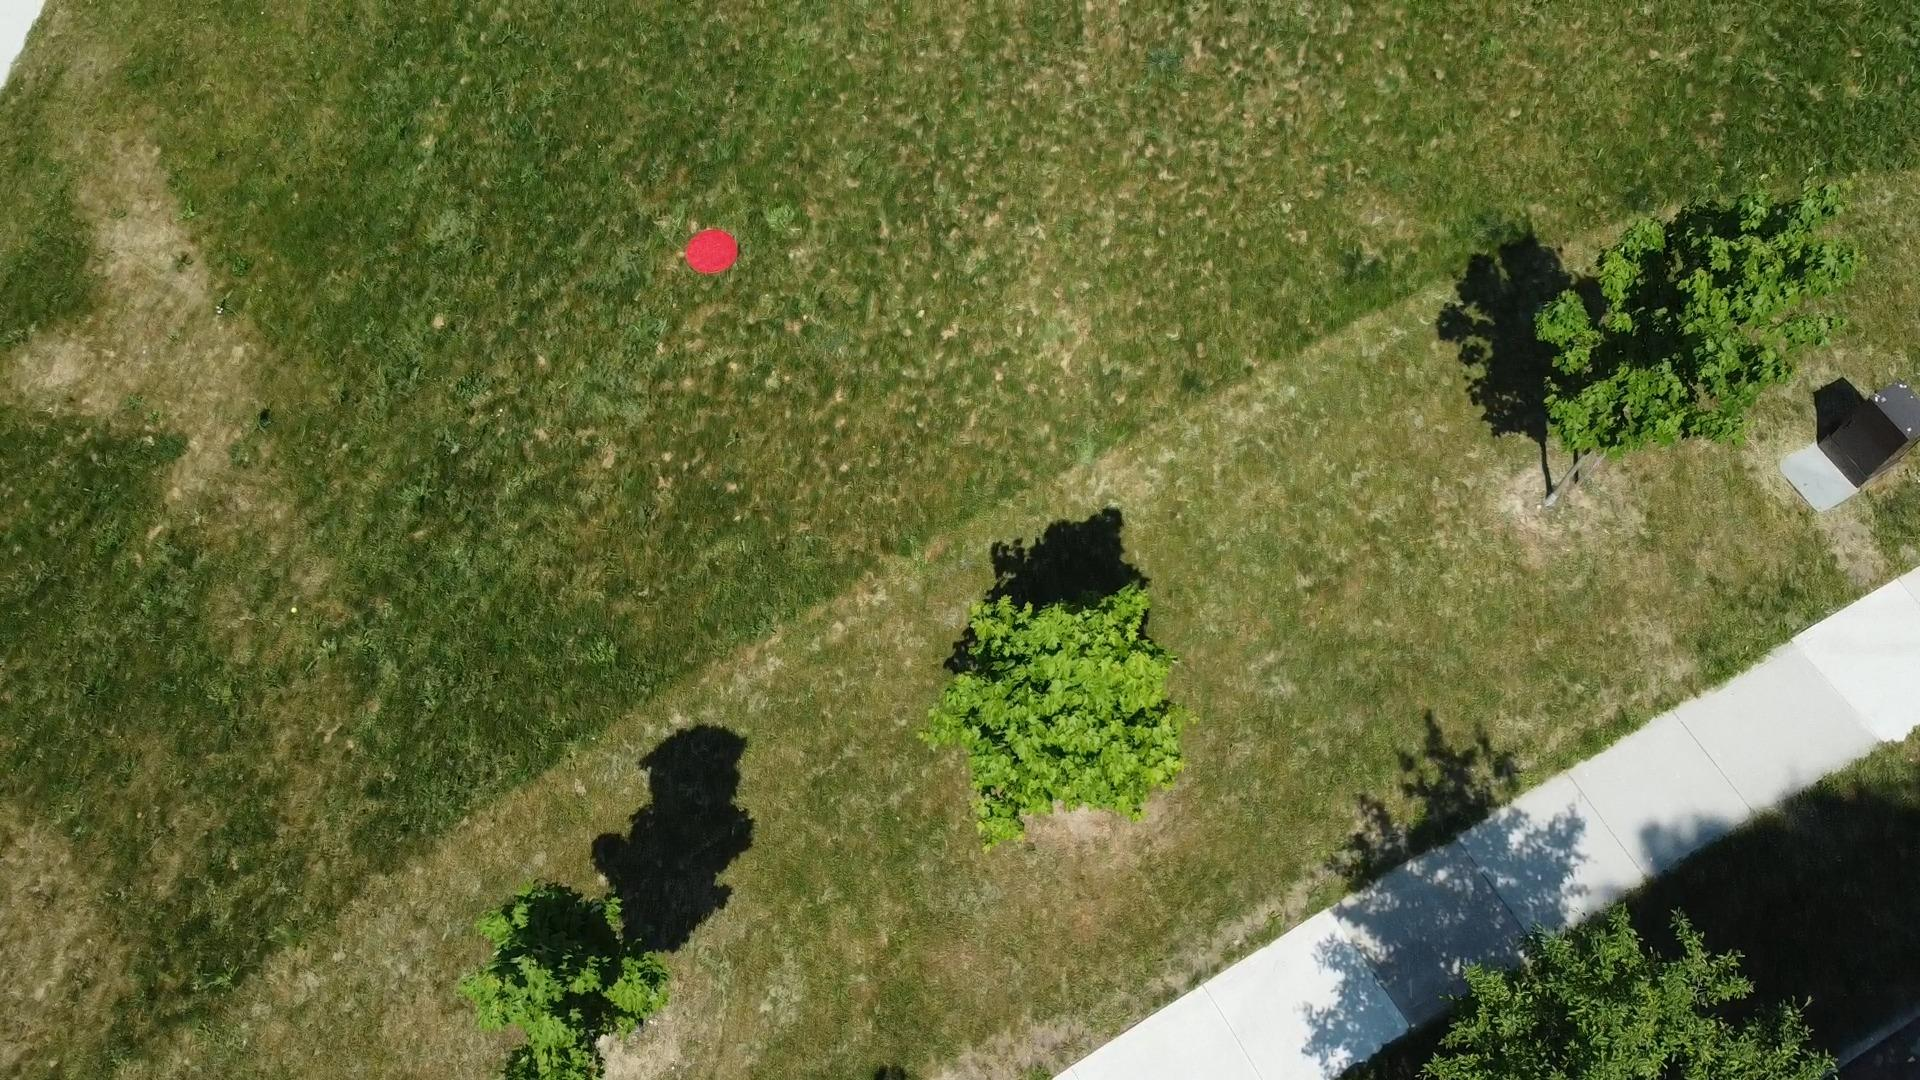Red: (682, 227, 741, 277)
